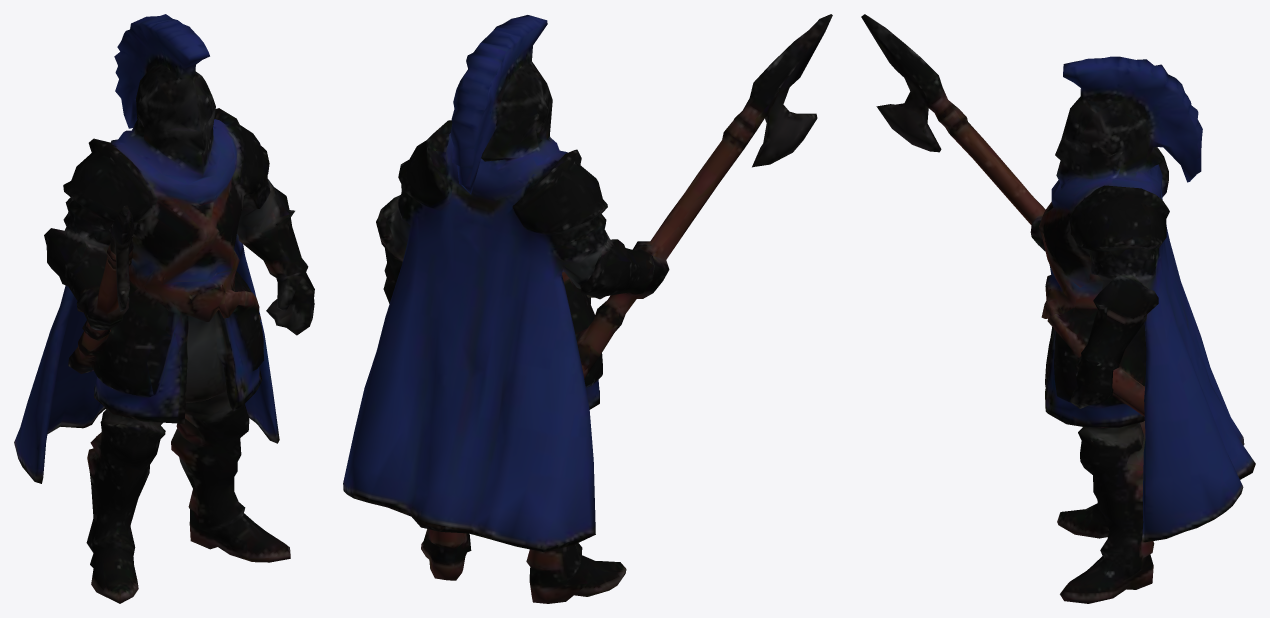
Rendered from detail_10_lo2.glb.
The picture shows the model from 3 angles, left to right: view 1: azimuth 30°, elevation 25°; view 2: azimuth 150°, elevation 25°; view 3: azimuth 270°, elevation 25°; orthographic projection. The views are drawn at different scales.
Visible parts, largest first — view 1: Mesh_0.001; view 2: Mesh_0.001; view 3: Mesh_0.001.
Part boxes in pixels (box(x1,y1,x2,y2)): Mesh_0.001: box(14, 14, 314, 603); Mesh_0.001: box(343, 14, 832, 603); Mesh_0.001: box(861, 14, 1255, 603).
Bounding box in the file's own units: 0.6113 × 1 × 0.7185.
Materials: 1 (1 with a texture image).
